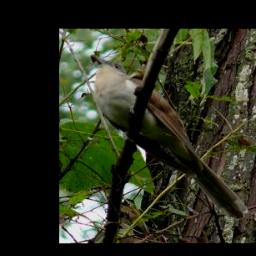Cuckoo: (90, 54, 248, 220)
